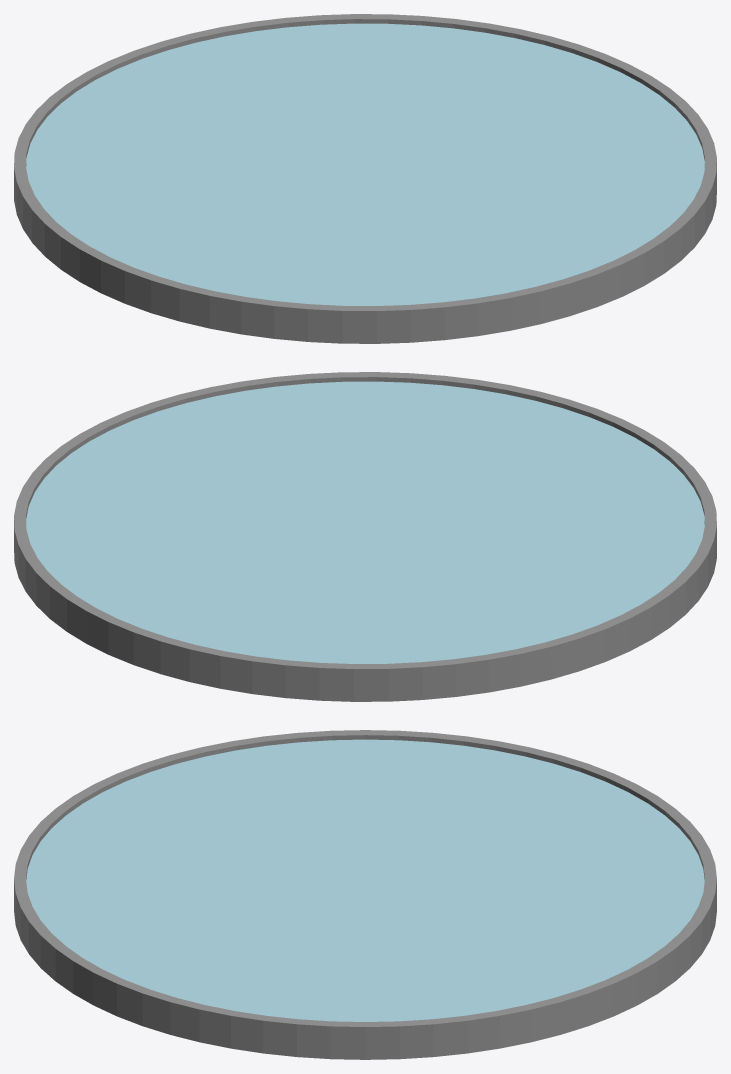
The model's file is Arean Base.fbx.
3 renders of one model, top to bottom at view 1: azimuth 30°, elevation 25°; view 2: azimuth 150°, elevation 25°; view 3: azimuth 270°, elevation 25°, orthographic.
Visible parts, largest first — view 1: Arean Base; view 2: Arean Base; view 3: Arean Base.
Part boxes in pixels (bbox=[...]): Arean Base: bbox=[14, 14, 716, 343]; Arean Base: bbox=[14, 372, 716, 701]; Arean Base: bbox=[14, 730, 716, 1059].
Size of the model in its own units: 899 by 46.28 by 899.
